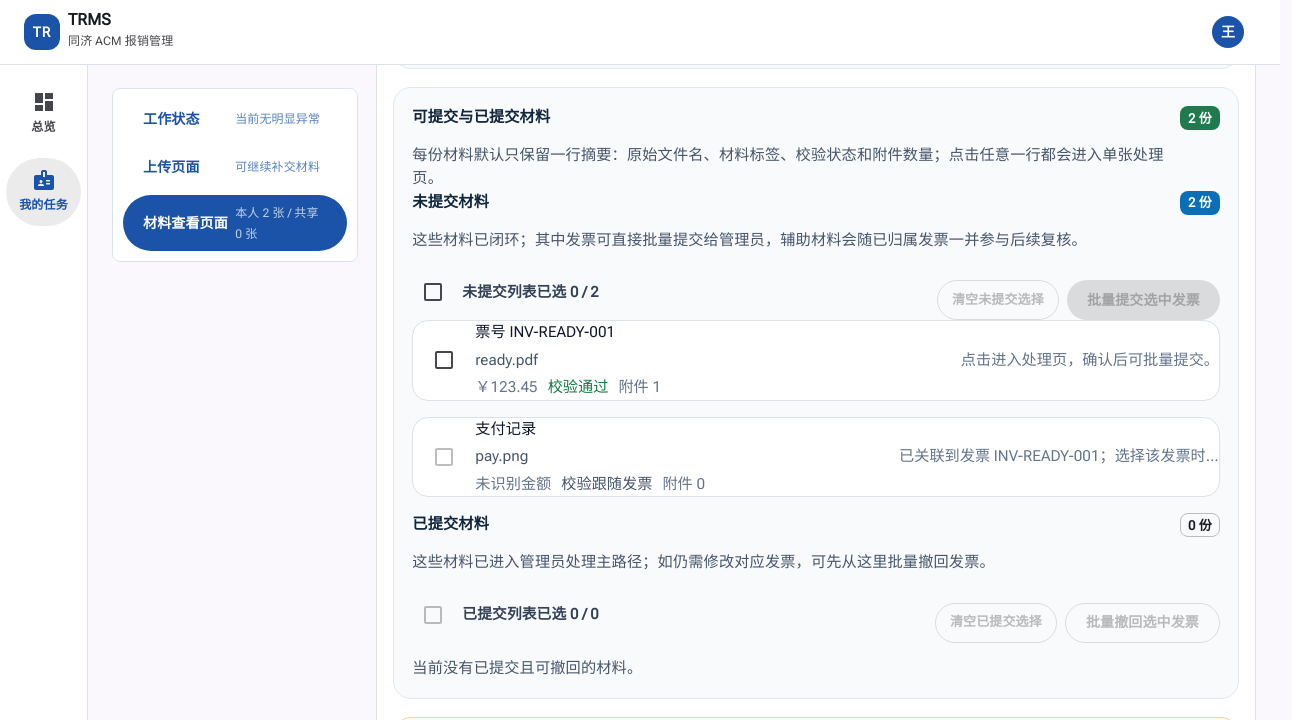
it: MemberInvoiceWorkbenchPage › shows a disabled gray checkbox for linked supporting materials and syncs its checked state with the parent invoice
(page scrolled)
expect the checkbox named "关联附件随发票提交 pay.png" is disabled: met, box [432,445,456,469]
expect the checkbox named "关联附件随发票提交 pay.png" is not checked: met, box [432,445,456,469]
Step 1. Click the checkbox named "批量选择发票 INV-READY-001" → (444, 360), box [432,348,456,372]
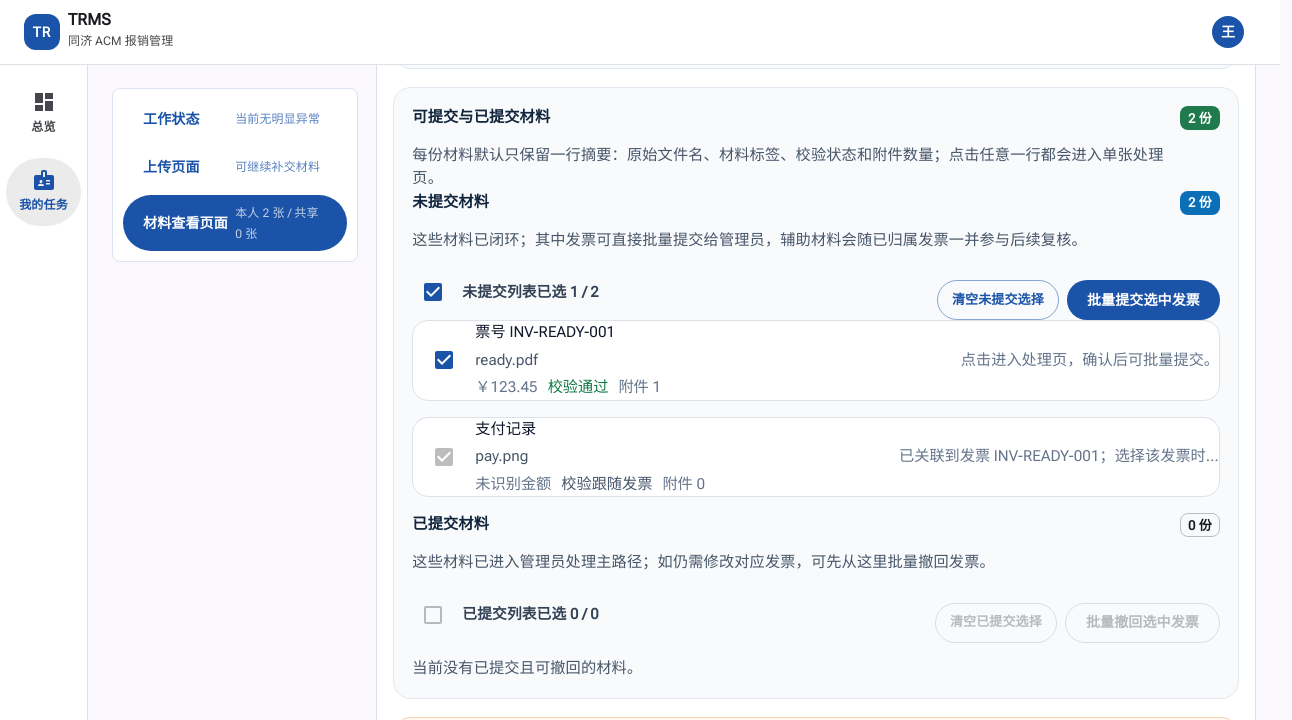
expect the checkbox named "关联附件随发票提交 pay.png" is checked: met, box [432,445,456,469]
